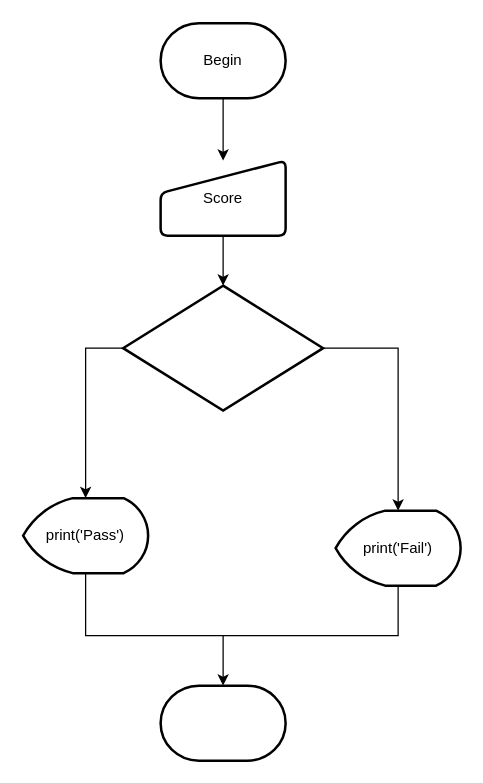
Some shapes in this 483 by 783 pixel diagram are drawn without their labels. The centre of each missing label's shape, as x and y in pixels:
"End" belongs at (222,722).
"Score>= 50" belongs at (222,347).
